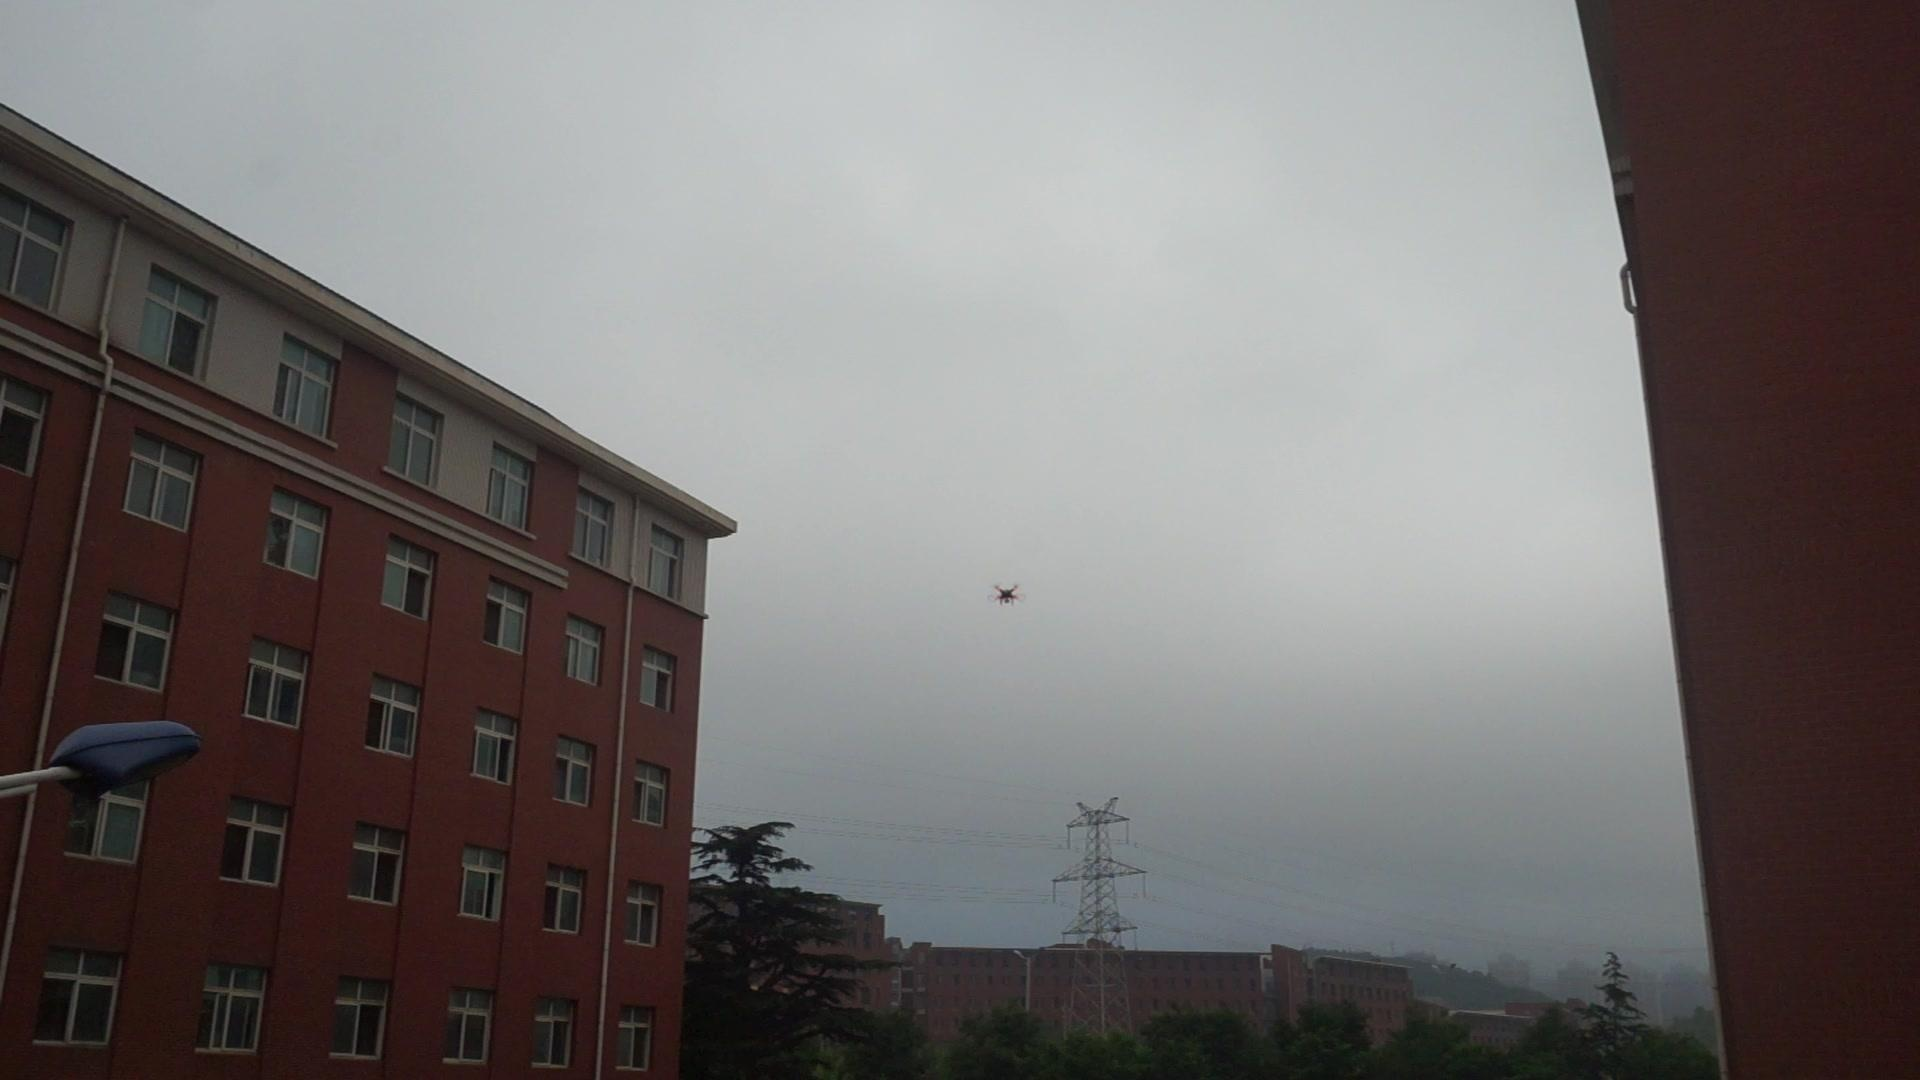UAV: (988, 585, 1027, 607)
